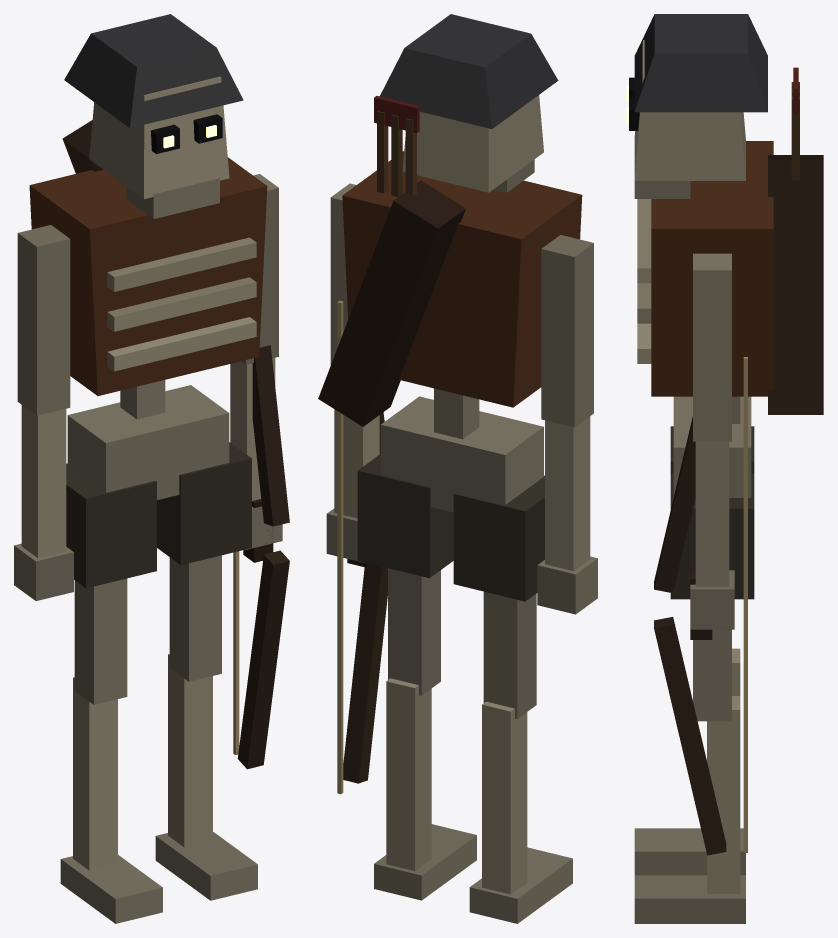
File: archer.glb
3 renders of one model, left to right at view 1: azimuth 30°, elevation 25°; view 2: azimuth 150°, elevation 25°; view 3: azimuth 270°, elevation 25°, orthographic.
Parts seen in each view (by area): view 1: Torso, Leg_R, Leg_L, Head, Arm_R, Arm_L; view 2: Torso, Leg_R, Leg_L, Head, Arm_R, Arm_L; view 3: Torso, Arm_L, Head, Leg_L, Leg_R.
Part boxes in pixels (left/top/right/bottom): Torso: left=29, top=120, right=267, bottom=499; Leg_R: left=60, top=463, right=162, bottom=923; Leg_L: left=155, top=442, right=257, bottom=900; Head: left=64, top=14, right=243, bottom=219; Arm_R: left=14, top=225, right=73, bottom=600; Arm_L: left=230, top=174, right=289, bottom=769; Torso: left=318, top=96, right=582, bottom=512; Leg_R: left=453, top=475, right=572, bottom=923; Leg_L: left=357, top=454, right=476, bottom=900; Head: left=380, top=14, right=558, bottom=192; Arm_R: left=537, top=235, right=597, bottom=614; Arm_L: left=326, top=183, right=387, bottom=794; Torso: left=637, top=67, right=823, bottom=497; Arm_L: left=654, top=253, right=747, bottom=855; Head: left=626, top=14, right=767, bottom=198; Leg_L: left=634, top=473, right=754, bottom=923; Leg_R: left=634, top=426, right=754, bottom=875.
Size of the model in its own units: 0.52 by 1.7 by 0.355.
